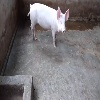heo: (26, 1, 70, 50)
